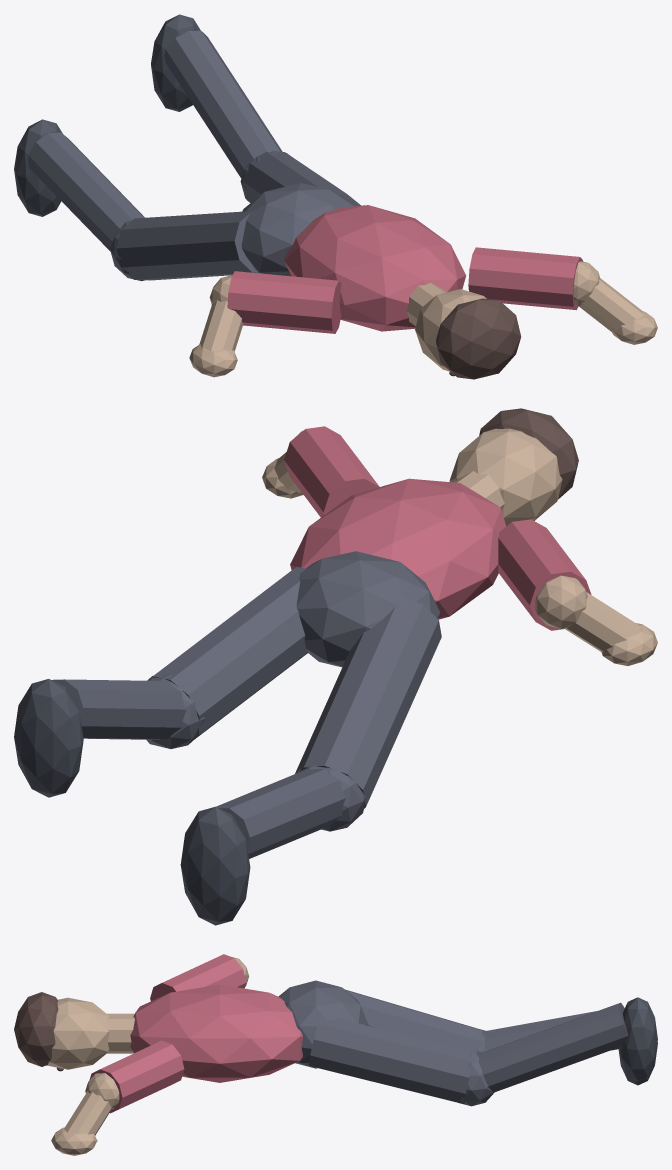
The picture shows the model from 3 angles, top to bottom: view 1: azimuth 30°, elevation 25°; view 2: azimuth 150°, elevation 25°; view 3: azimuth 270°, elevation 25°; orthographic projection. The views are drawn at different scales.
Parts seen in each view (by area): view 1: world; view 2: world; view 3: world.
Boxes of the visible parts, <box> form: world: <box>14,14,657,379</box>; world: <box>14,408,657,925</box>; world: <box>14,954,657,1155</box>.
Size of the model in its own units: 1.25 by 0.52 by 2.08.
